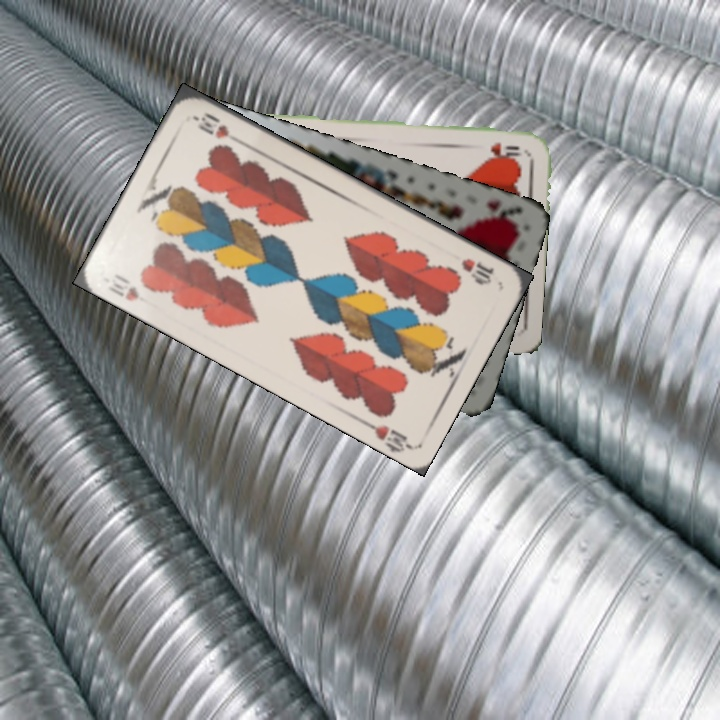H10: (104, 269, 142, 304), (457, 254, 497, 287)
HK: (480, 196, 525, 230)
HO: (487, 138, 525, 159)
